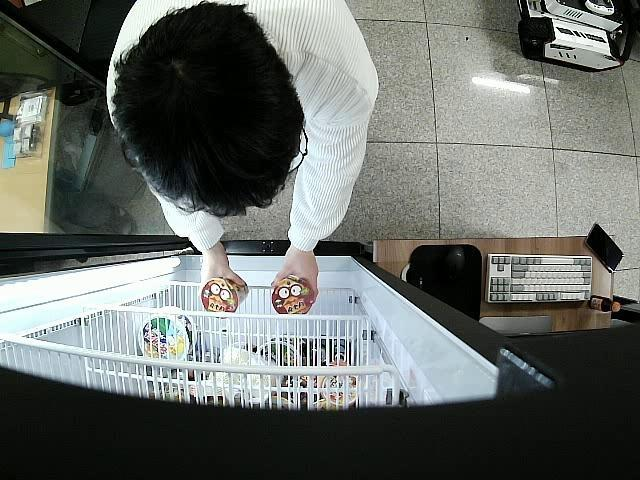06_nuguri_S: (202, 274, 248, 314), (270, 275, 314, 314)
